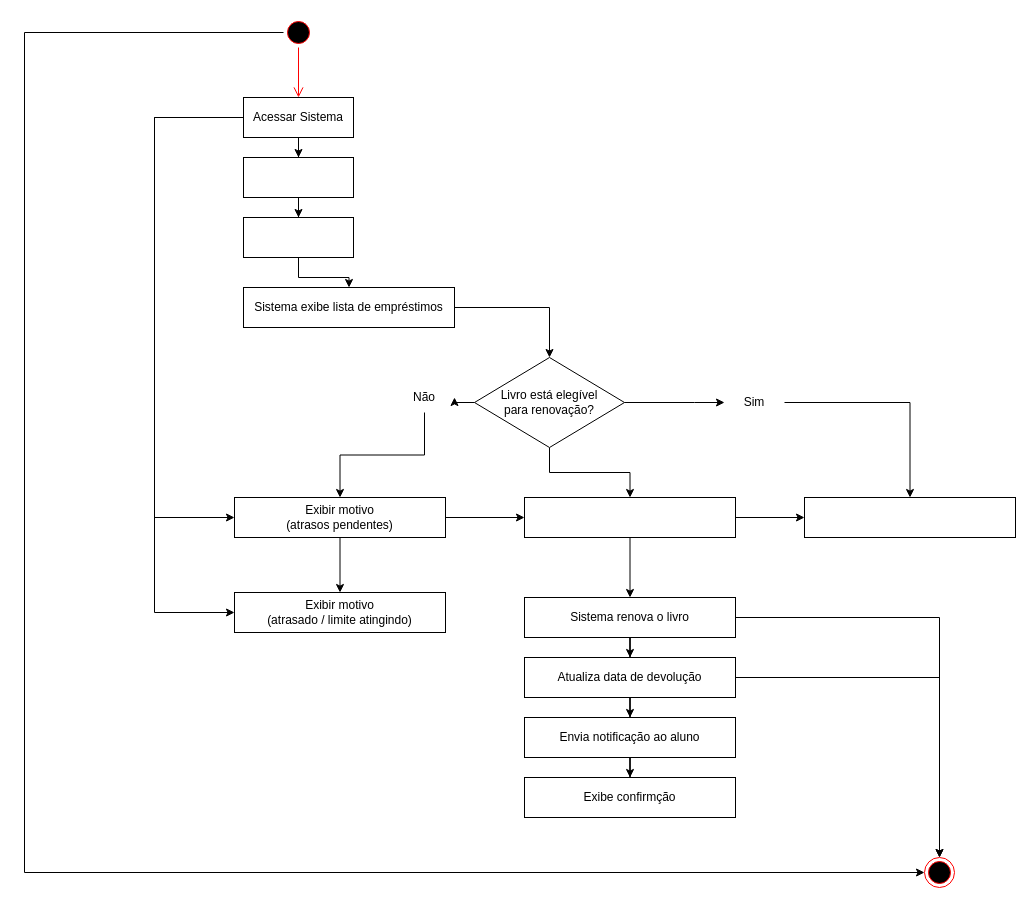
Some shapes in this 1033 by 905 pixel diagram are drawn without their labels. The shapes that lost their labels are listed below. From the top down, each one's centre as x and y in pixels, then its label:
point 298,177: Login
point 298,237: Selecionar "Renovar Empréstimo"
point 630,517: Sistema verifica reservas pendentes
point 910,517: Exibir mensagem "permita"
